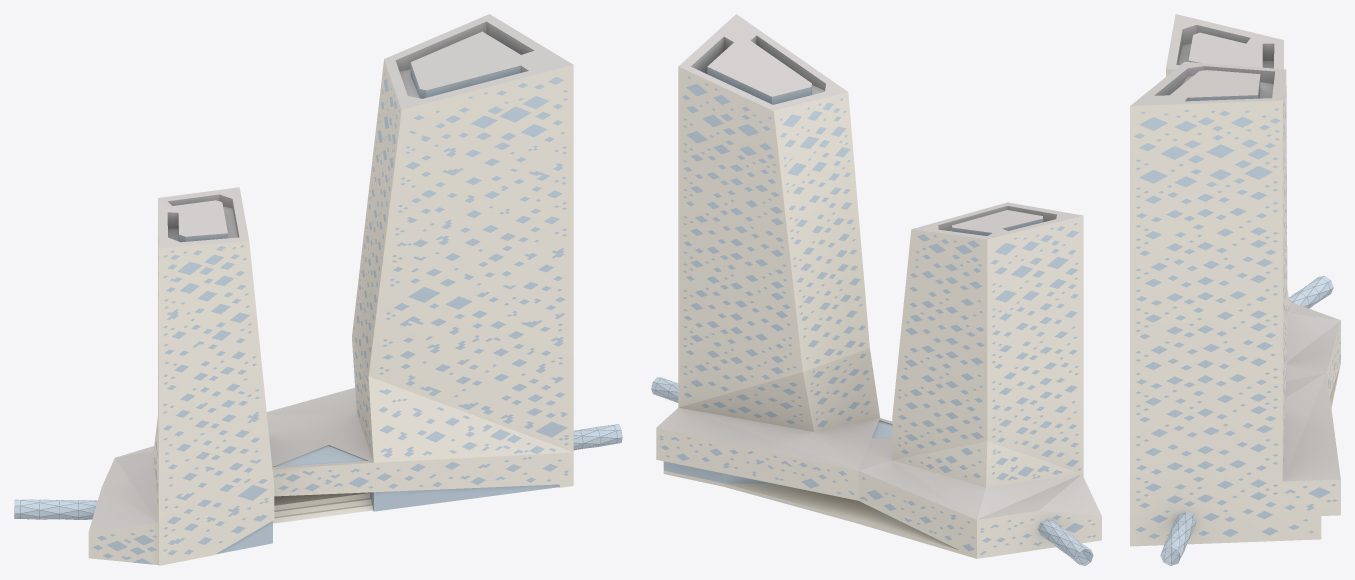
3 renders of one model, left to right at view 1: azimuth 30°, elevation 25°; view 2: azimuth 150°, elevation 25°; view 3: azimuth 270°, elevation 25°, orthographic. The views are drawn at different scales.
Visible parts, largest first — view 1: 70030076431362735; view 2: 70030076431362735; view 3: 70030076431362735.
Part boxes in pixels (x1,y1,x2,y2): 70030076431362735: (14, 14, 622, 565); 70030076431362735: (651, 14, 1101, 565); 70030076431362735: (1130, 14, 1340, 565).
Size of the model in its own units: 167 by 125 by 54.43.
1 material, 1 textured.
